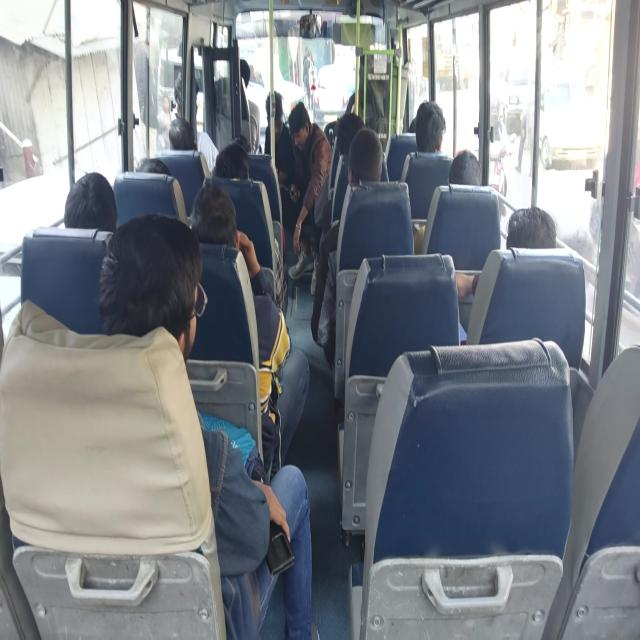person: (126, 247, 200, 371), (66, 178, 117, 228), (512, 210, 558, 253), (198, 212, 245, 253), (170, 121, 204, 167), (218, 146, 256, 183), (417, 104, 443, 158), (336, 112, 364, 154), (353, 133, 378, 180), (178, 64, 200, 112), (134, 157, 170, 186), (234, 52, 256, 98), (454, 155, 478, 189), (289, 108, 309, 148), (360, 55, 380, 82), (269, 90, 280, 136)
